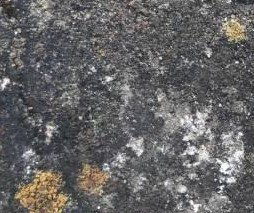Corrosion: (14, 167, 73, 213), (76, 162, 111, 193), (220, 20, 248, 44)
